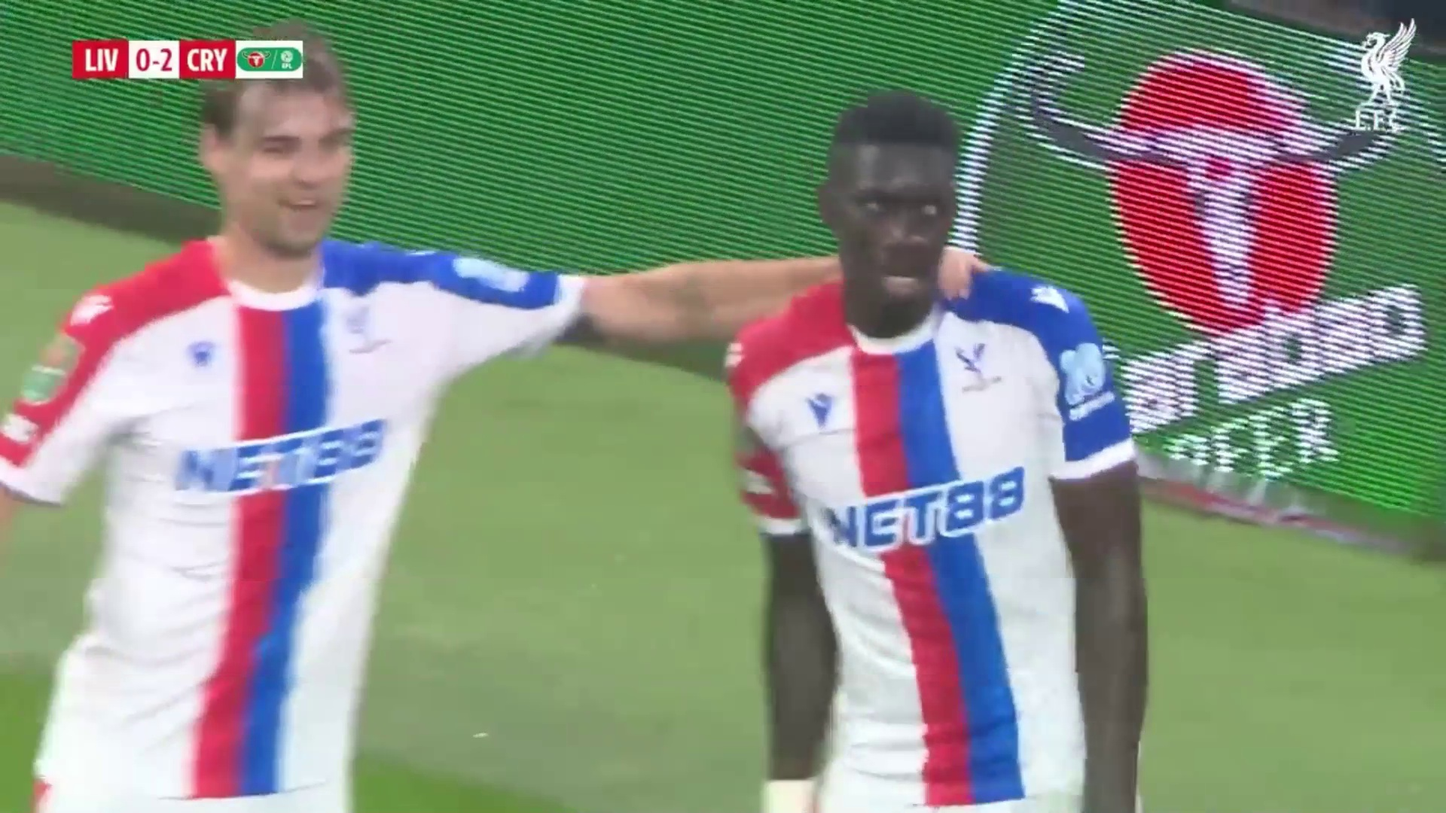player: (496, 90, 1154, 801), (1, 35, 584, 801)
